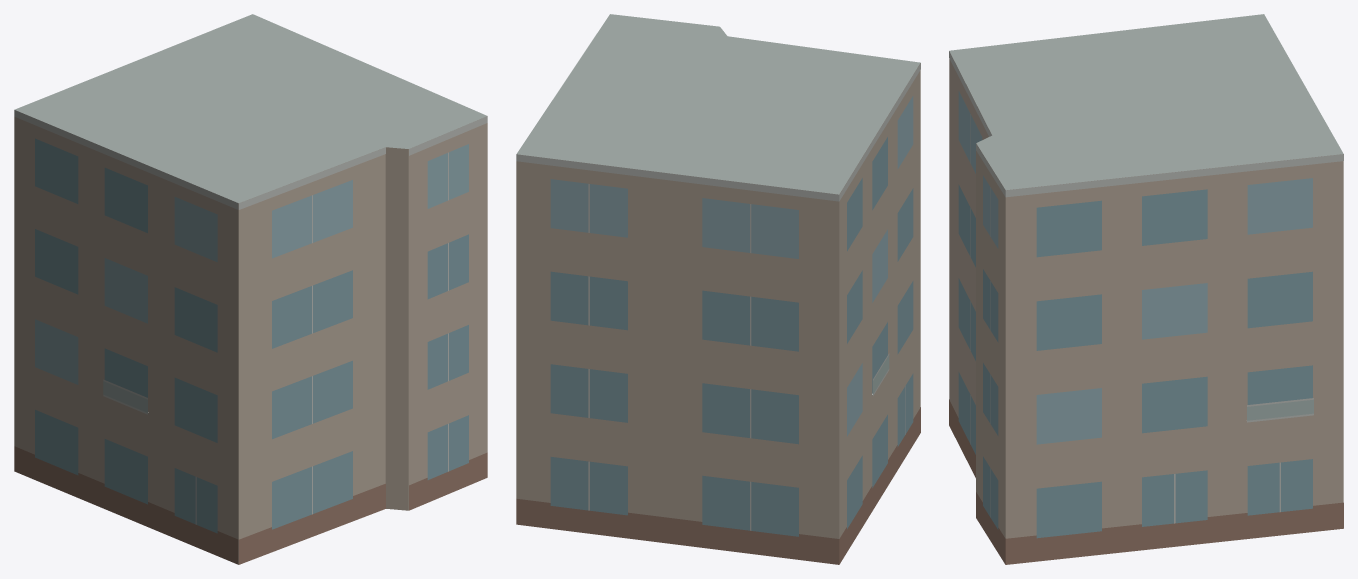
Rendered from survey-upis-32618687.glb.
3 views of the same model, side by side, from view 1: azimuth 30°, elevation 25°; view 2: azimuth 150°, elevation 25°; view 3: azimuth 270°, elevation 25° (orthographic). The views are drawn at different scales.
Visible parts, largest first — view 1: survey-upis-32618687.tmp; view 2: survey-upis-32618687.tmp; view 3: survey-upis-32618687.tmp.
Boxes of the visible parts, x1,y1,x2,y2 form: survey-upis-32618687.tmp: (14,14,487,564); survey-upis-32618687.tmp: (516,14,920,564); survey-upis-32618687.tmp: (949,14,1343,564).
Bounding box in the file's own units: 13.02 × 12.9 × 12.33.
